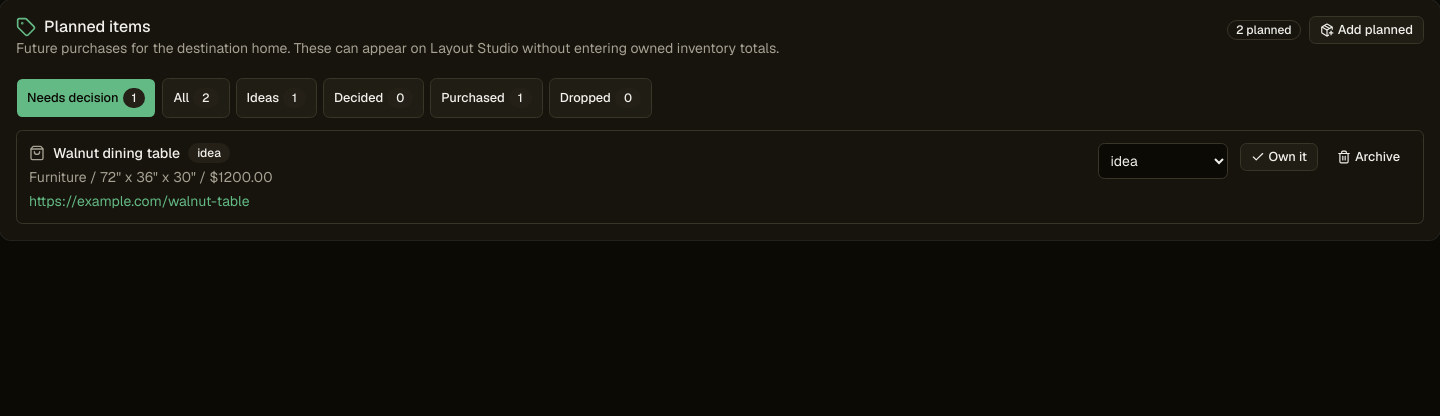
Scenario: PlannedItemsPanel › shows planned item records before opening the add form
Expected: the list named "Planned item cards" is shown, [16,130,1424,224]
Expected: the text "Walnut dining table" is shown, [53,143,180,163]
Step 1. Click the button "Purchased 1" → (486, 98), box [430,78,543,118]
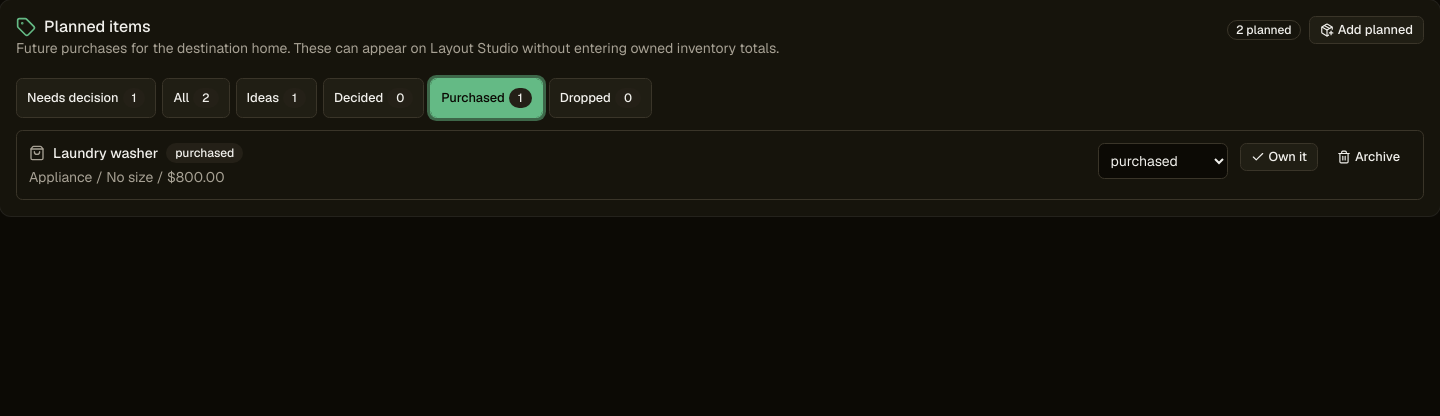
Expected: the text "Laundry washer" is shown, [53,143,158,163]
Expected: the text "Walnut dining table" is gone
Step 2. Click the button "Needs decision 1" → (86, 98), box [16,78,156,118]
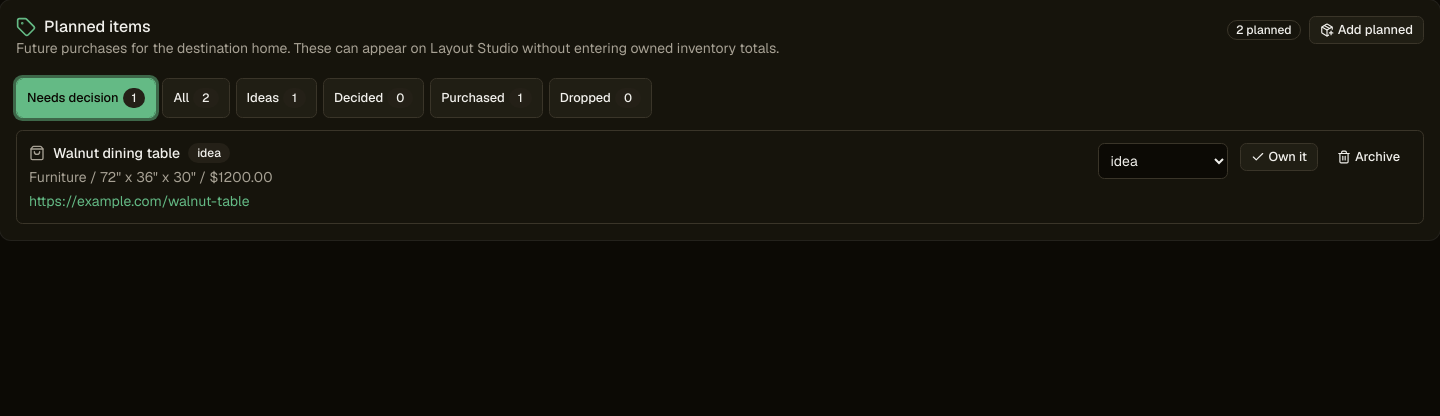
Step 3. Click the button "Add planned" → (1366, 30), box [1309,16,1424,44]
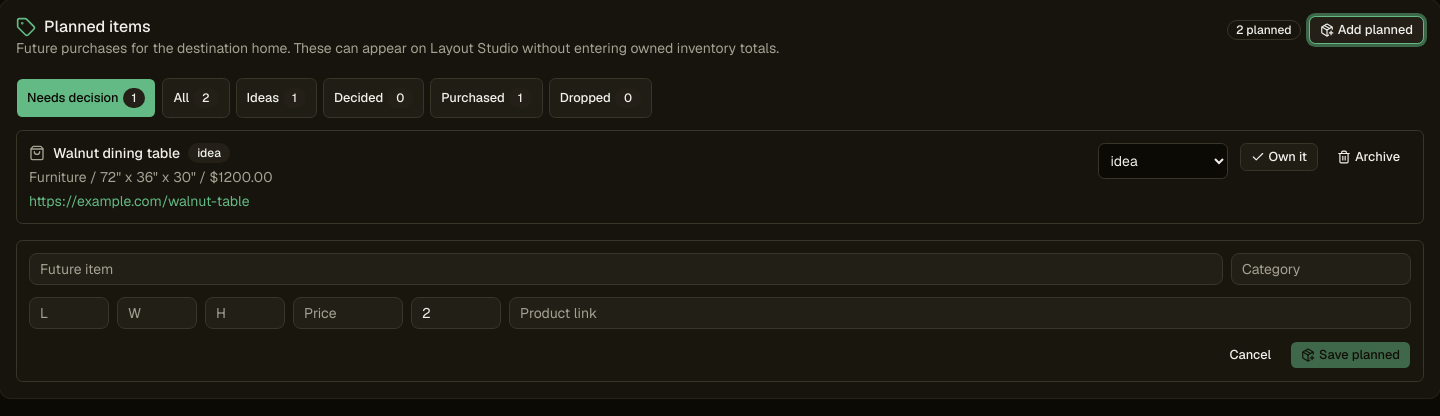
Expected: the text "Walnut dining table" is shown, [53,143,180,163]
Expected: the field named "Planned item name" is shown, [29,253,1223,285]
